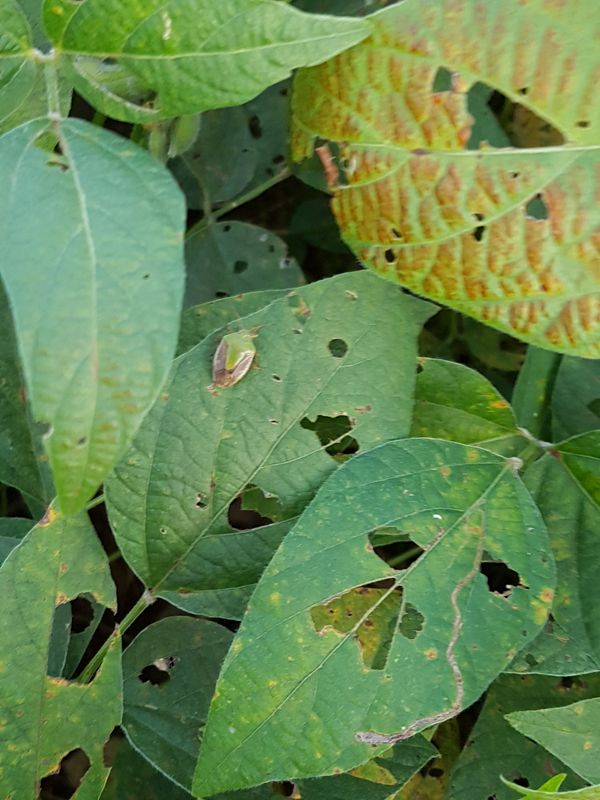Edessa_meditabunda: (197, 308, 278, 405)
